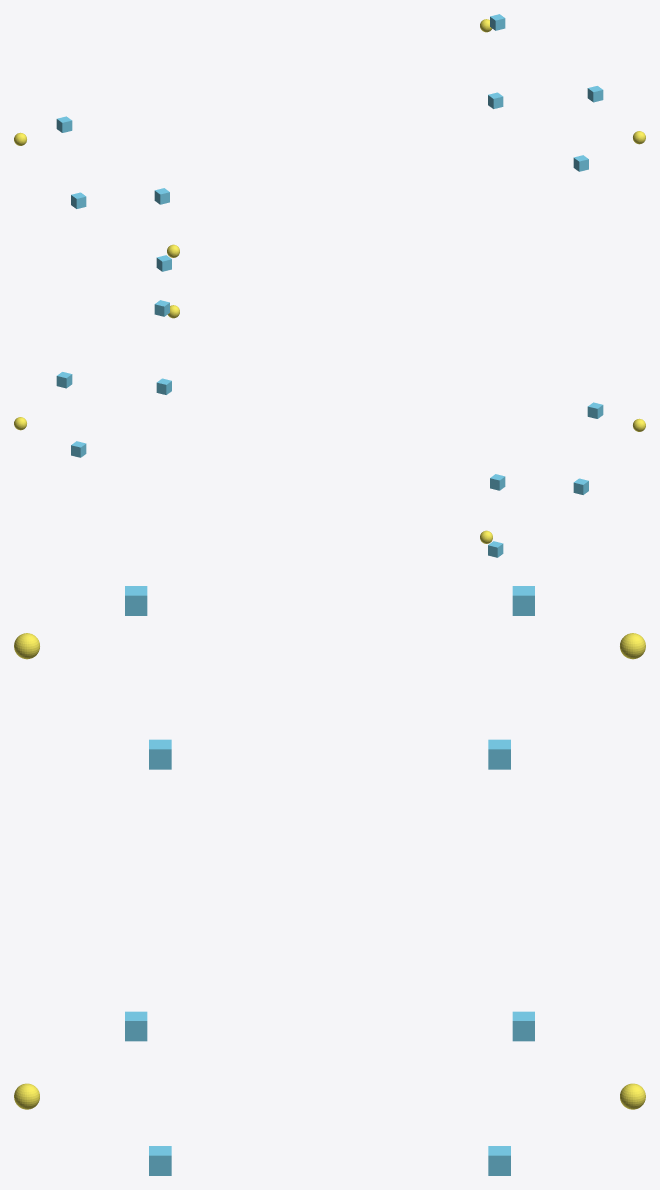
Rendered from hardpoints.glb.
The picture shows the model from 3 angles, top to bottom: view 1: azimuth 30°, elevation 25°; view 2: azimuth 150°, elevation 25°; view 3: azimuth 270°, elevation 25°; orthographic projection. The views are drawn at different scales.
Bounding box in the file's own units: 2.92 × 0.5 × 1.69.
